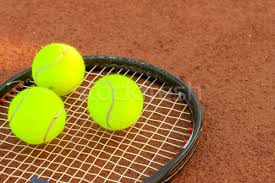tennis_ball: (9, 87, 66, 144), (87, 74, 144, 130), (31, 43, 86, 97)
